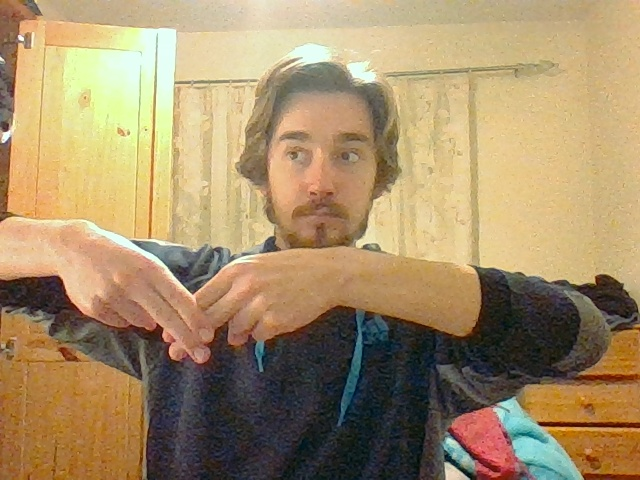father: (139, 252, 244, 363)
